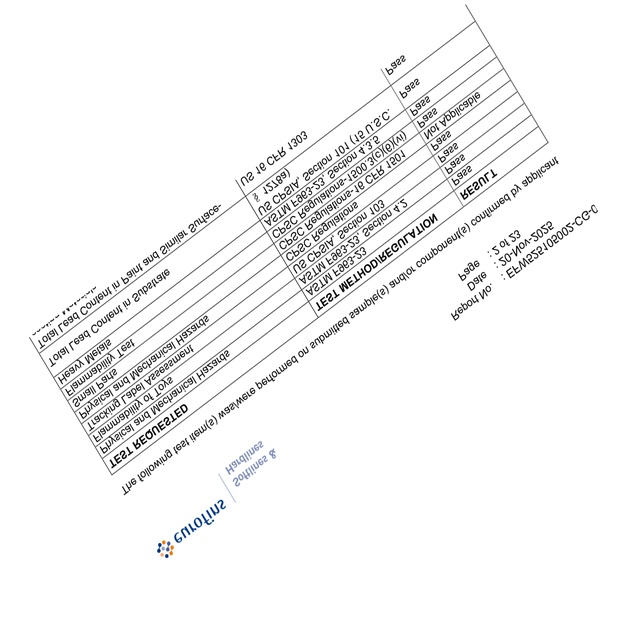eurofins: (152, 496, 225, 563)
